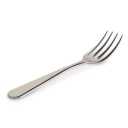fork: (4, 25, 128, 102)
